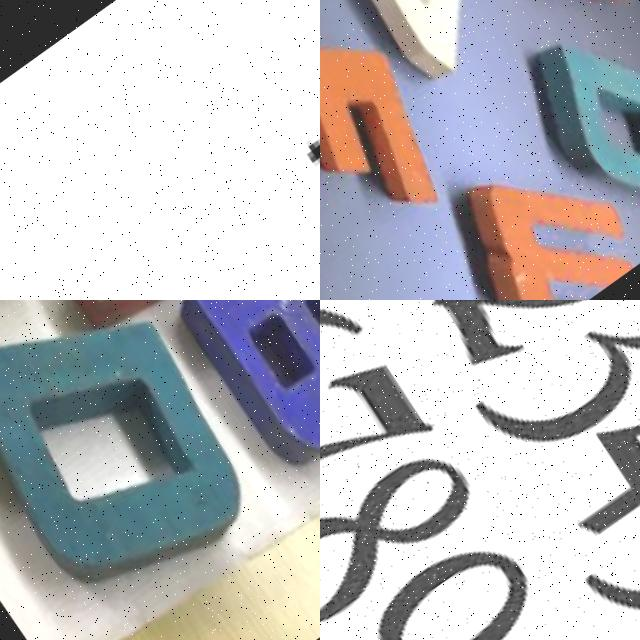2: (0, 0, 320, 300), (419, 300, 640, 388)
3: (464, 300, 640, 485)
4: (535, 326, 640, 562)
5: (576, 421, 640, 640)
6: (320, 300, 390, 488)
7: (320, 339, 450, 574)
8: (320, 424, 504, 640)
9: (320, 514, 566, 640)
B: (161, 300, 320, 497)
D: (0, 300, 289, 620), (504, 0, 640, 247)
E: (320, 0, 487, 288)
L: (0, 300, 116, 436)
W: (425, 120, 640, 300)
Z: (320, 0, 525, 120)
